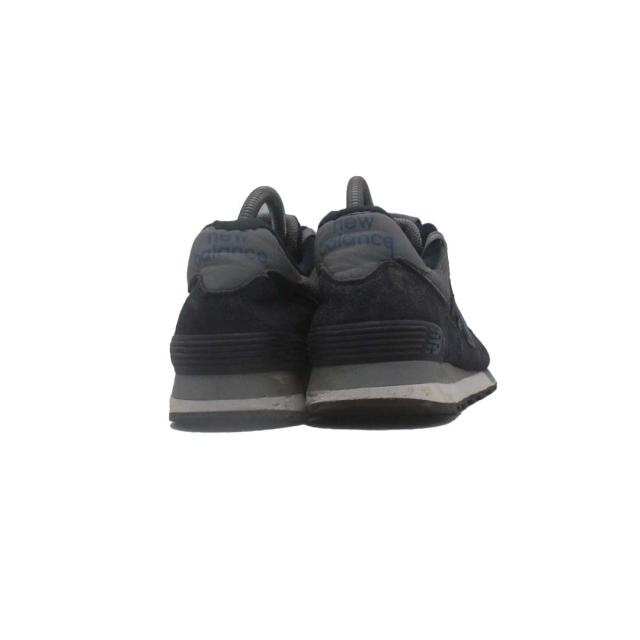heel: (158, 192, 300, 371), (310, 192, 455, 365)
midsole: (158, 373, 490, 433)
